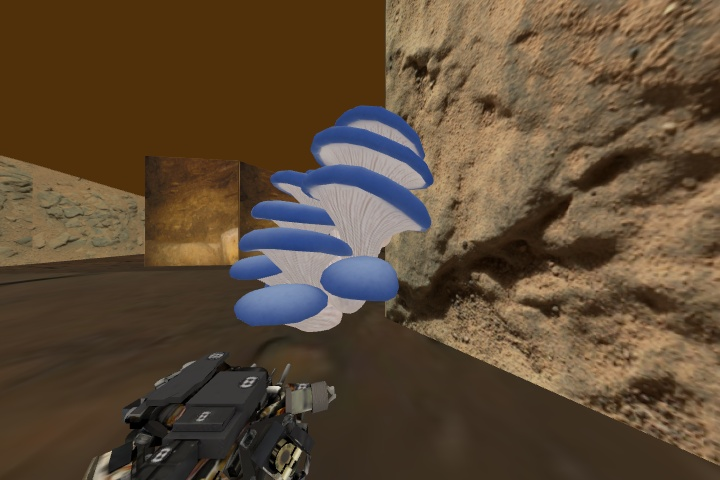mushroom: (226, 101, 435, 339)
